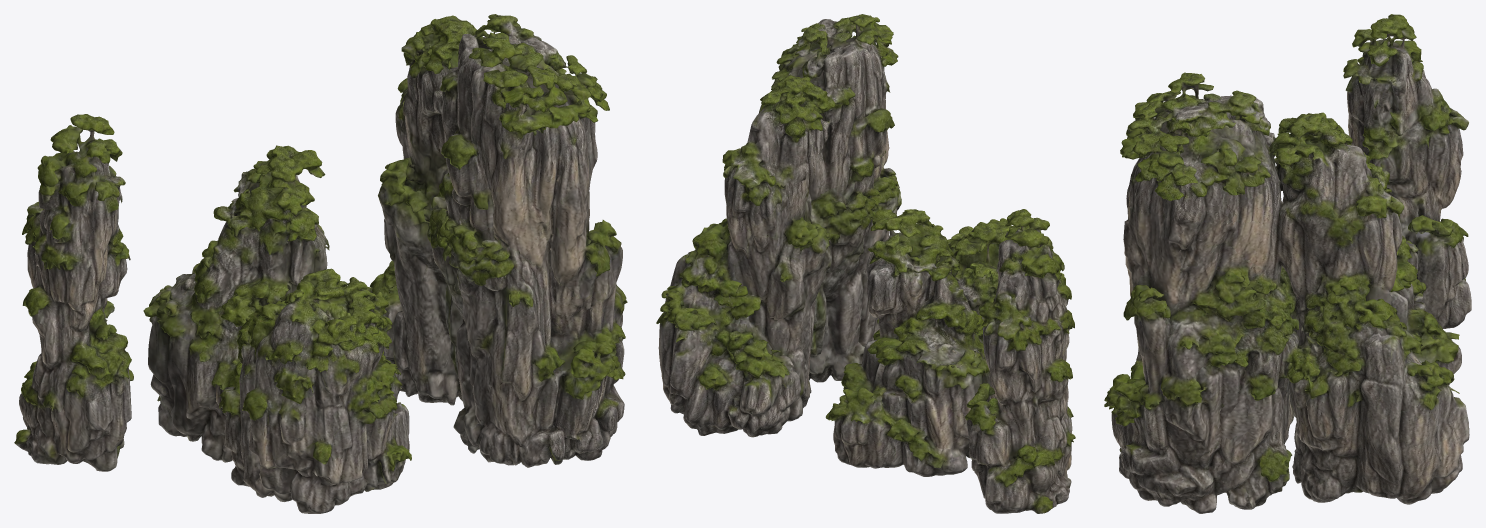
Rendered from halong-pillars.glb.
The picture shows the model from 3 angles, left to right: view 1: azimuth 30°, elevation 25°; view 2: azimuth 150°, elevation 25°; view 3: azimuth 270°, elevation 25°; orthographic projection. The views are drawn at different scales.
Bounding box in the file's own units: 1.9 × 1.58 × 1.34.
1 material, 1 textured.
